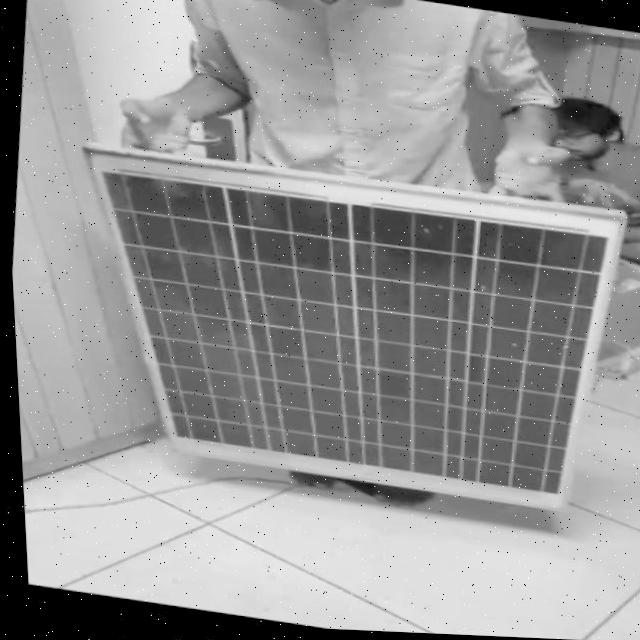Normal Solar Panel: (61, 143, 632, 510)
